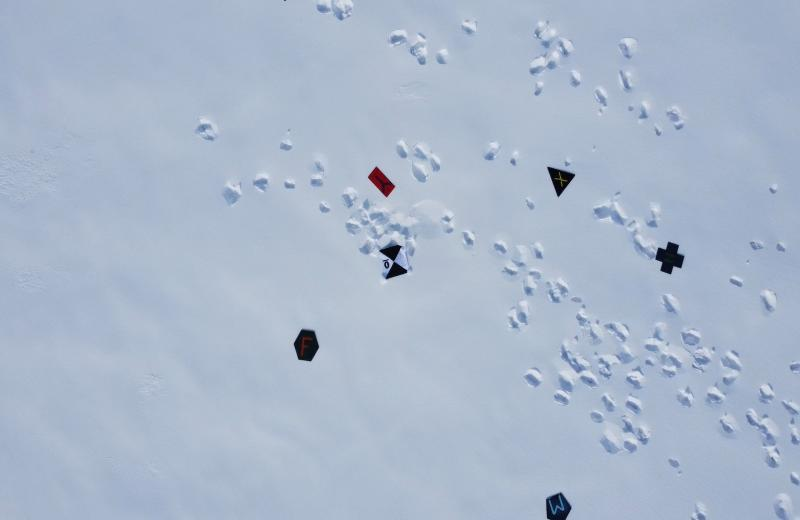Cross: (654, 242, 686, 275)
Hexagon: (293, 326, 320, 362)
Pentagon: (545, 486, 573, 520)
Rectangle: (368, 165, 397, 199)
Triangle: (548, 164, 576, 199)
